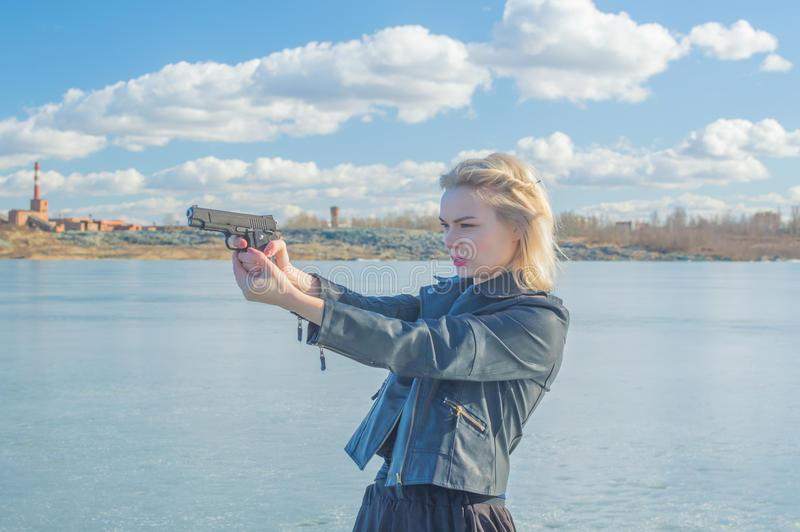criminal: (183, 148, 575, 532)
weapon: (183, 203, 283, 269)
